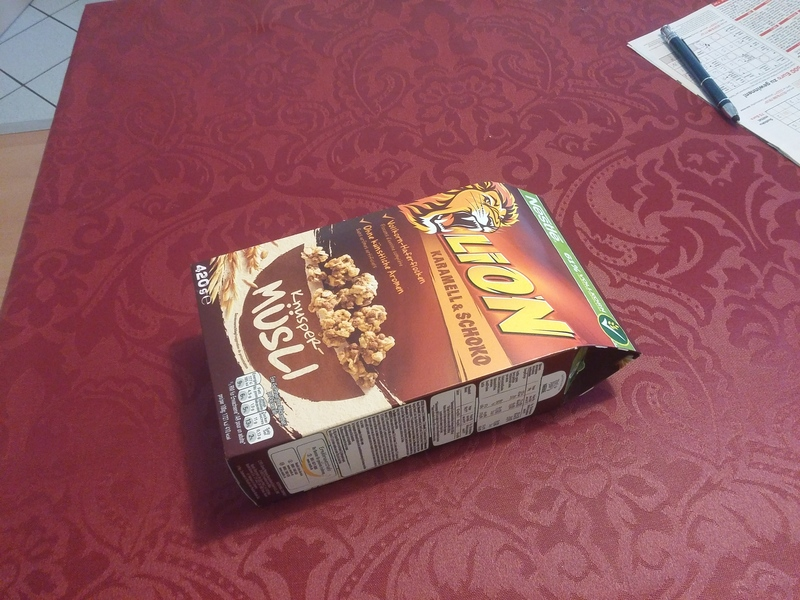cereals: (191, 180, 641, 506)
